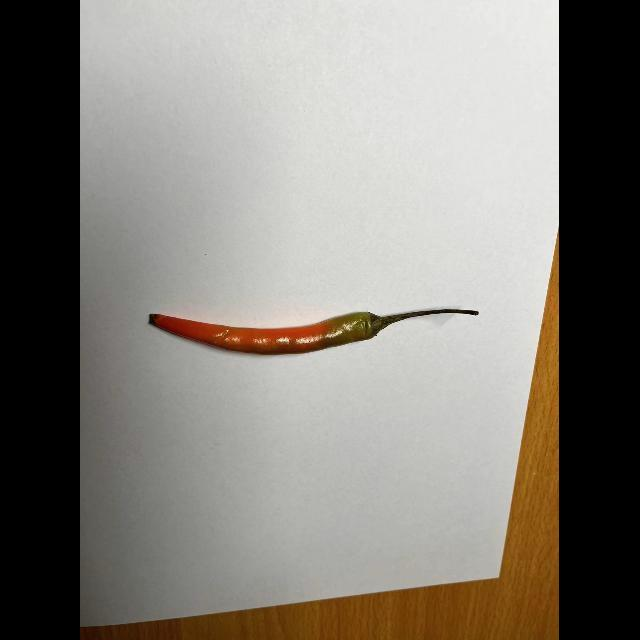chili_pepper: (144, 296, 494, 360)
